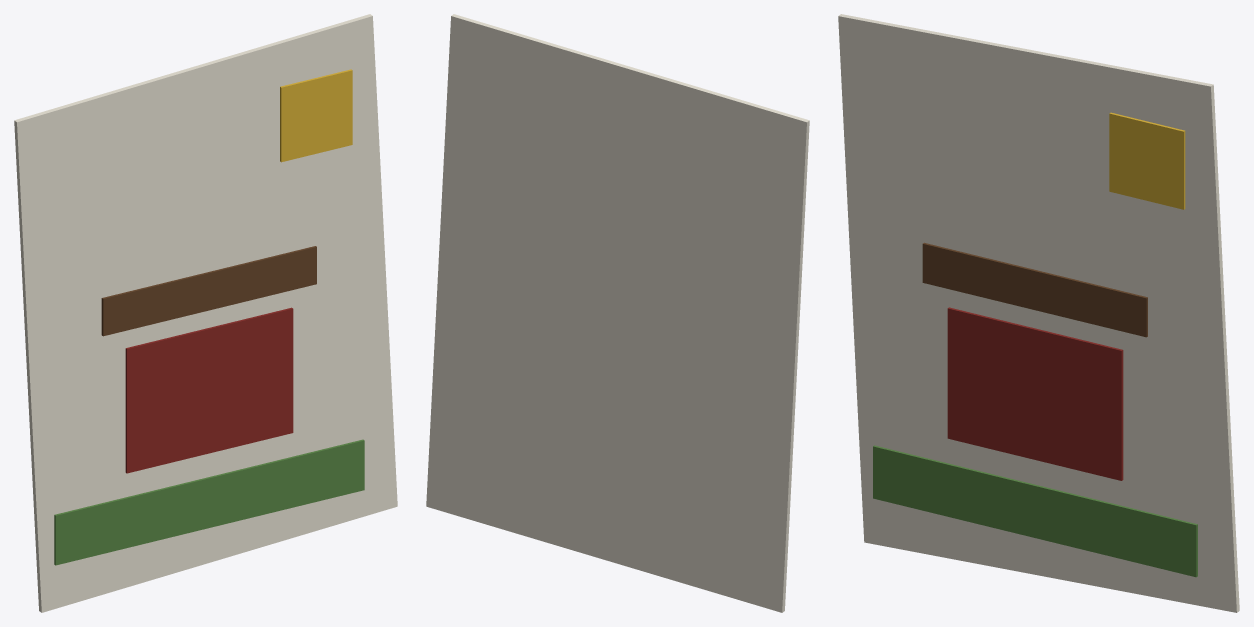
File: GD_KidDrawing_02.glb
3 renders of one model, left to right at view 1: azimuth 30°, elevation 25°; view 2: azimuth 150°, elevation 25°; view 3: azimuth 330°, elevation 25°, orthographic. The views are drawn at different scales.
Visible parts, largest first — view 1: GD_KidDrawing_02; view 2: GD_KidDrawing_02; view 3: GD_KidDrawing_02.
Boxes of the visible parts, bbox=[...] form: GD_KidDrawing_02: bbox=[14, 14, 397, 612]; GD_KidDrawing_02: bbox=[426, 14, 809, 612]; GD_KidDrawing_02: bbox=[838, 14, 1239, 612].
Size of the model in its own units: 0.3205 by 0.4152 by 0.008.
1 material, 1 textured.
